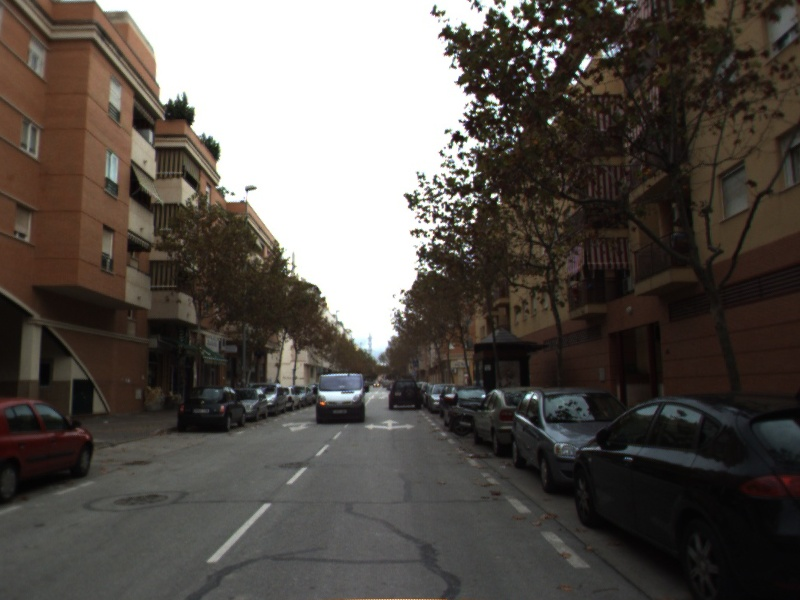STRAIGHT_LEFT_RIGHT: (363, 418, 417, 432)
